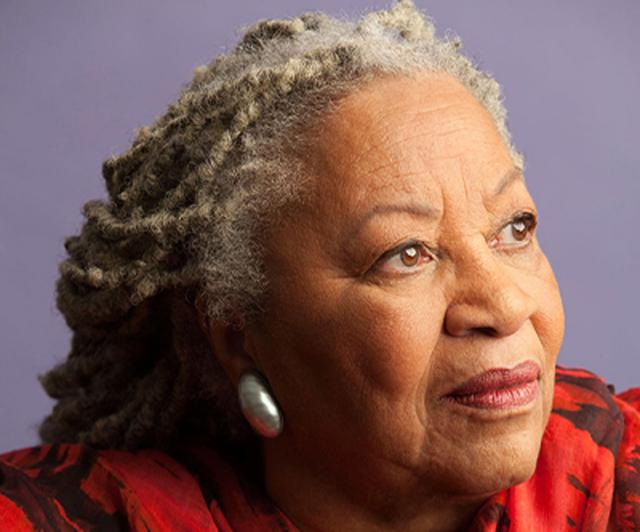forehead: (362, 154, 414, 194)
frown_line: (436, 193, 450, 229), (459, 172, 475, 200)
gummy_smile: (526, 316, 548, 348)
sad_smile: (404, 380, 438, 436)
